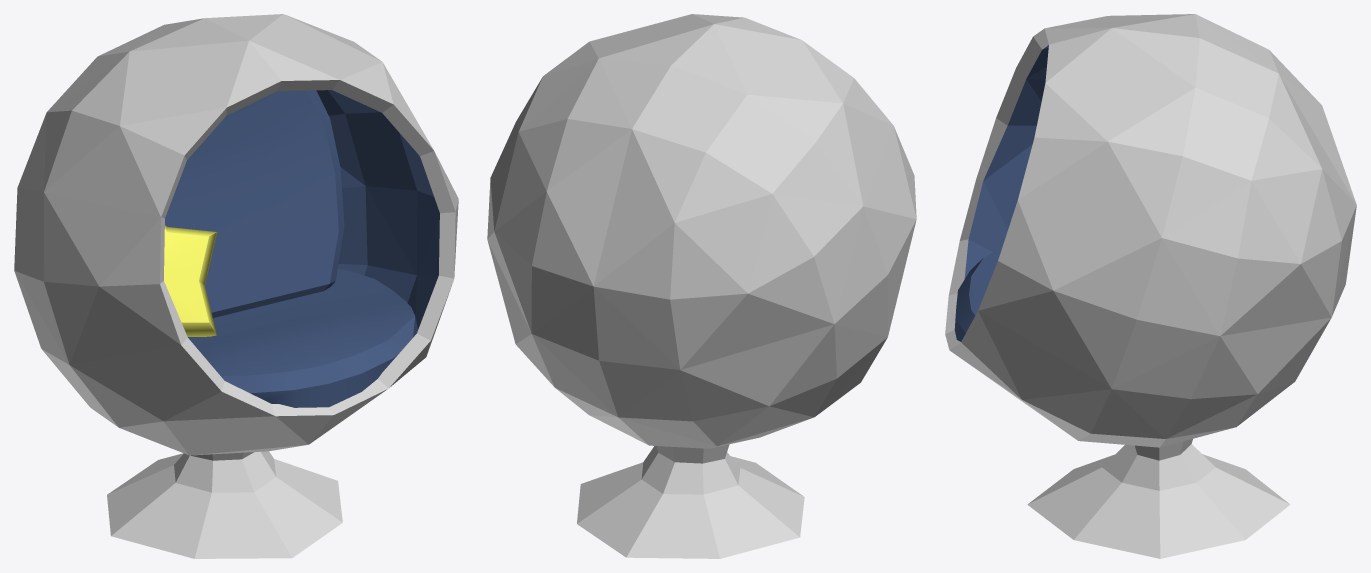
Rendered from MD_isu_251208.fbx.
3 renders of one model, left to right at view 1: azimuth 30°, elevation 25°; view 2: azimuth 150°, elevation 25°; view 3: azimuth 270°, elevation 25°, orthographic. The views are drawn at different scales.
Parts seen in each view (by area): view 1: isu_ketugou; view 2: isu_ketugou; view 3: isu_ketugou.
Part boxes in pixels (left/top/right/bottom): isu_ketugou: left=14, top=14, right=458, bottom=558; isu_ketugou: left=487, top=14, right=916, bottom=558; isu_ketugou: left=945, top=14, right=1356, bottom=558.
Bounding box in the file's own units: 160 × 192 × 151.
